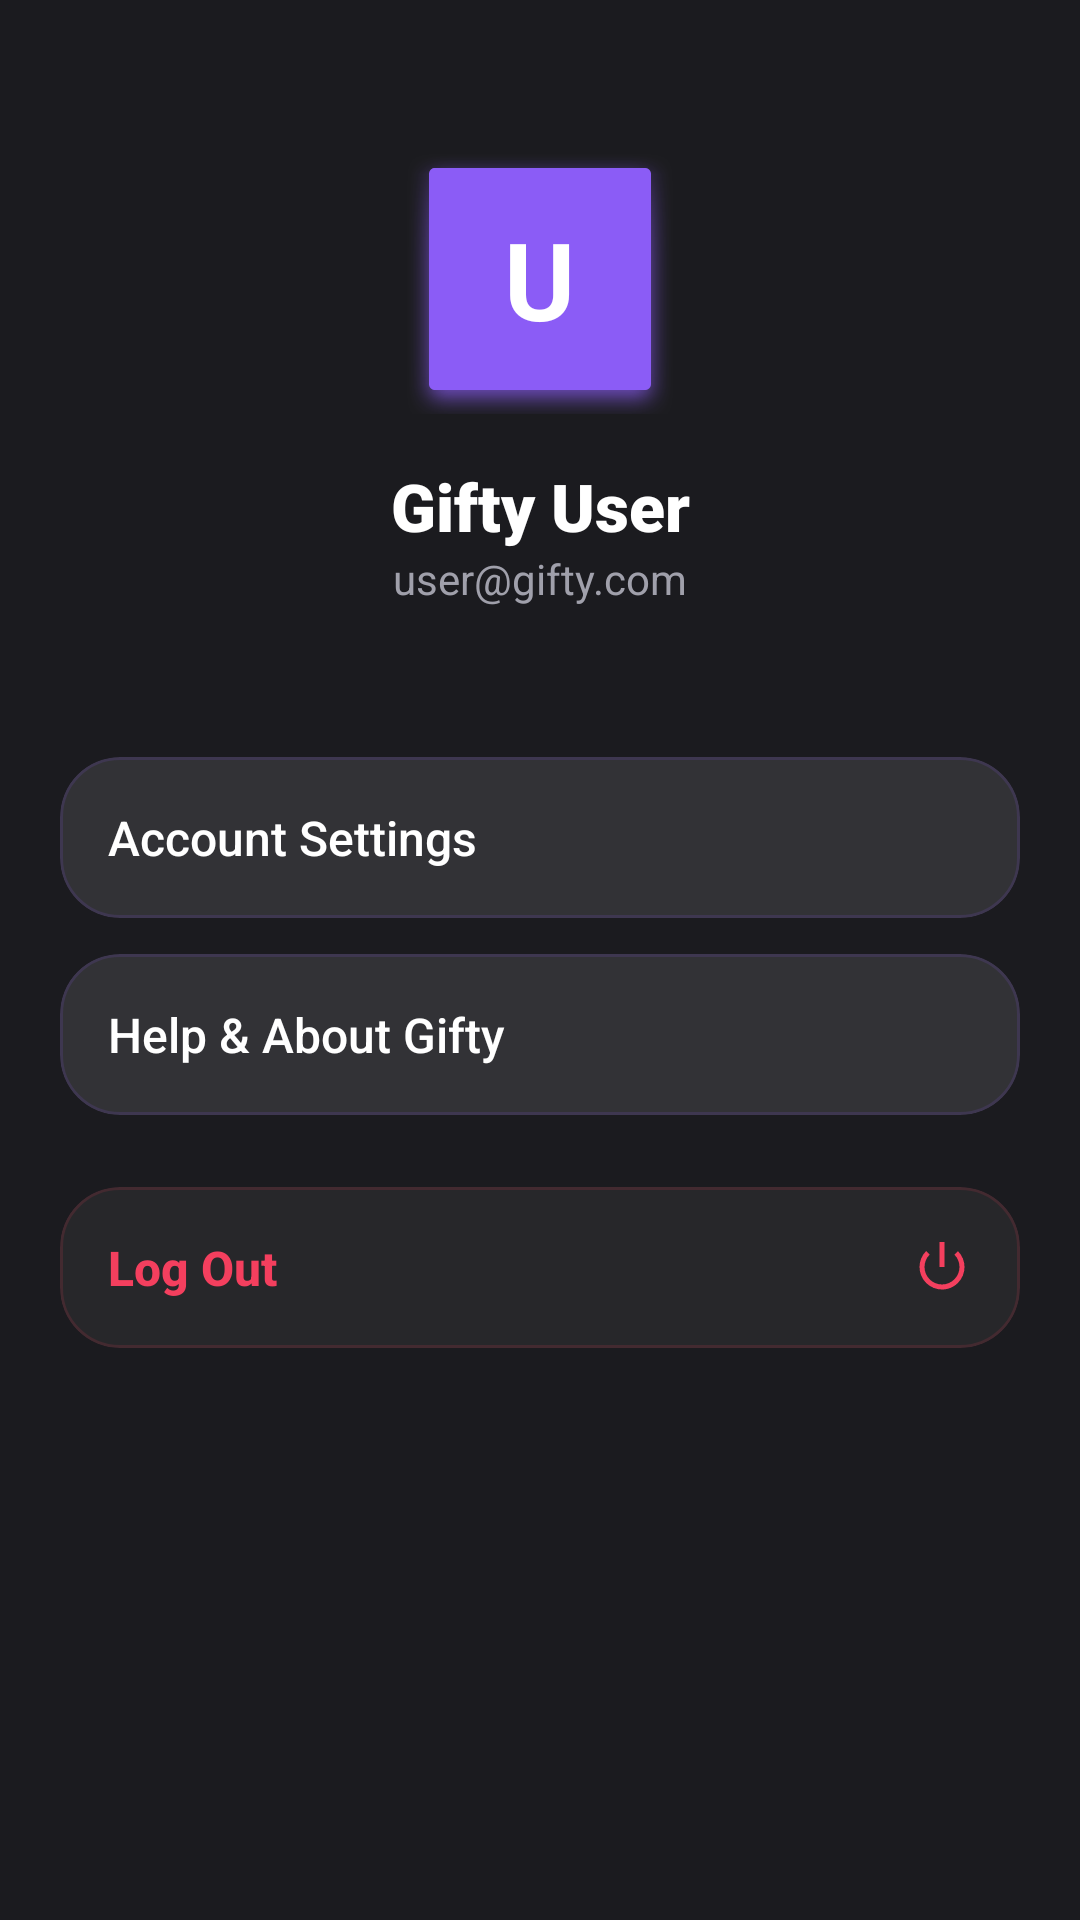

Screen size 1080*1920. Icon name, then its center in pixels as (x,y):
lock power off: (942,1266)
